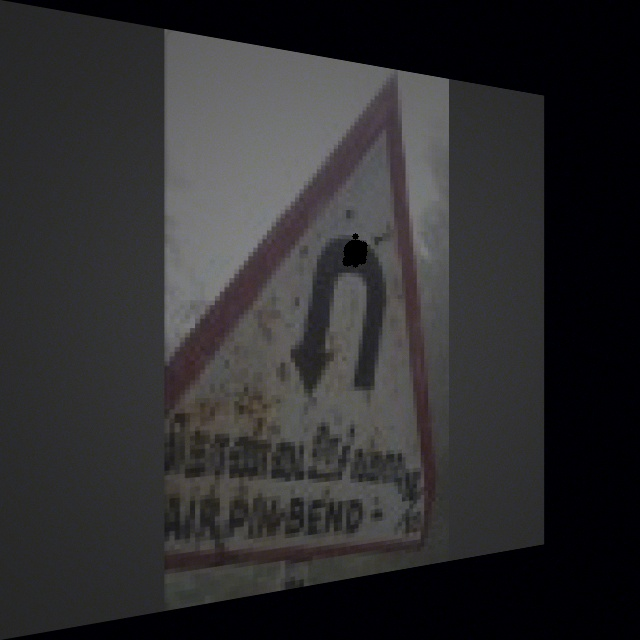Left_Hair_Pin_Bend: (259, 209, 419, 417)
